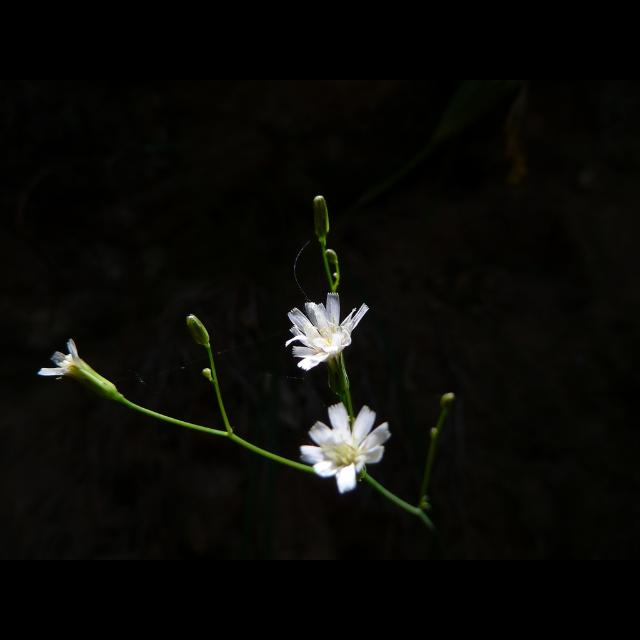Flower: (296, 402, 394, 494), (283, 291, 365, 379), (36, 340, 120, 404)
